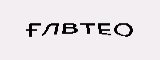В: (61, 19, 79, 36)
Е: (96, 20, 112, 37)
Л: (41, 20, 60, 40)
О: (113, 19, 135, 38)
Т: (78, 18, 95, 35)
Ғ: (24, 20, 41, 38)
